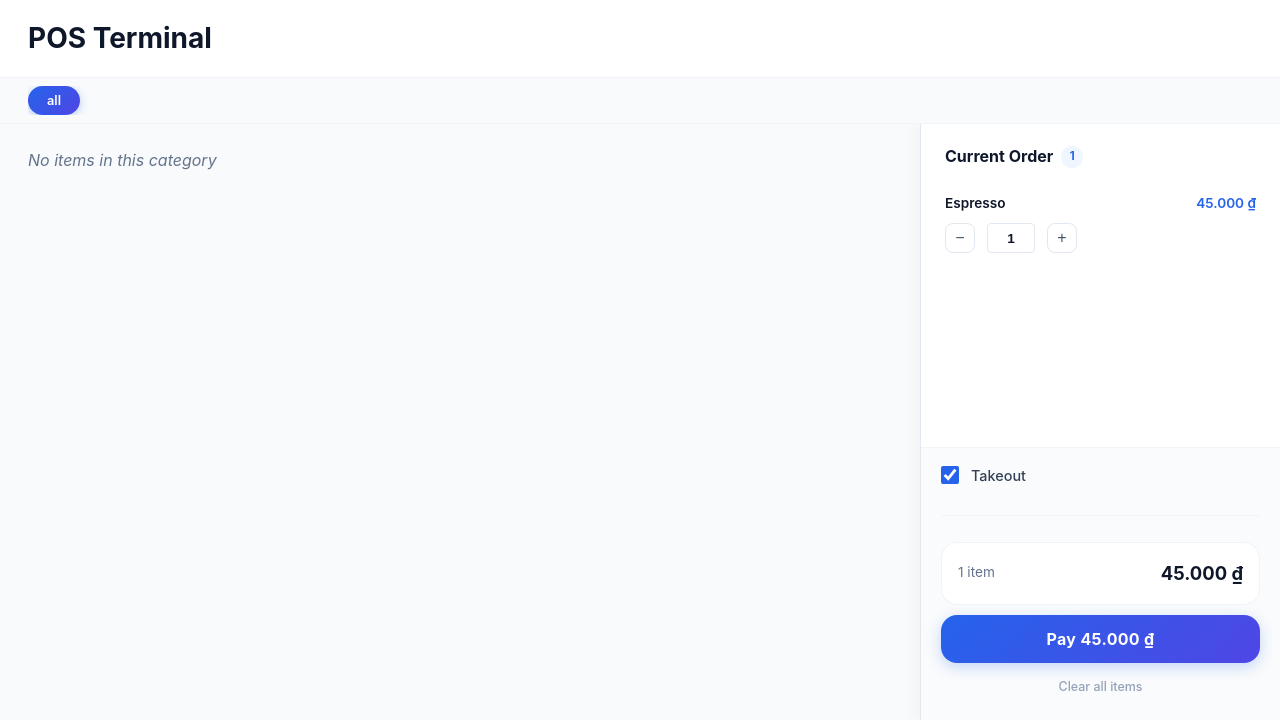
POSPage › opens payment modal when Pay is clicked in takeout mode
Click the button "Pay 45.000 ₫" at (1100, 639), box [941,615,1260,663]
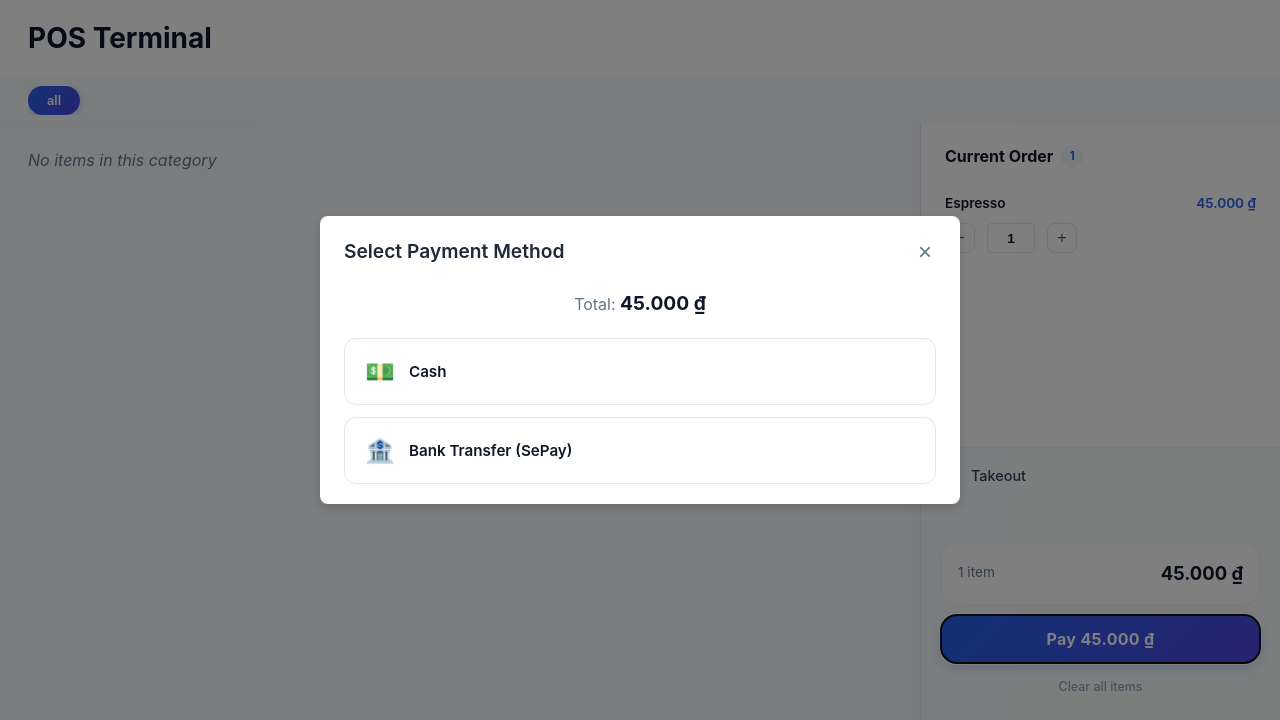
Now the heading "Select Payment Method" is shown, box [344,236,564,267]
